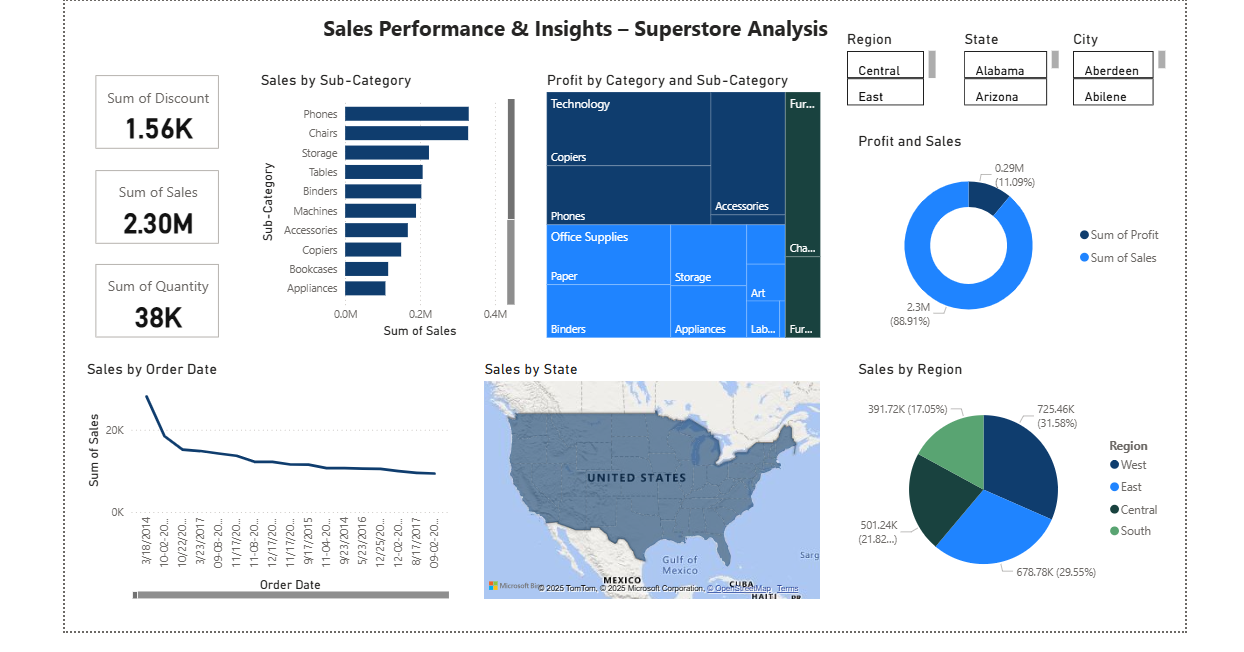

What the dashboard file says about the page in this screenshot:
{"tool":"powerbi","page":{"name":"Page 1","canvas":[1280,720],"ordinal":0},"visuals":[{"type":"clusteredBarChart","title":"Sales by Sub-Category","fields":{"Category":["Sample - Superstore.Sub-Category"],"Y":["Sum(Sample - Superstore.Sales)"]},"box":[218.6,80,300,310],"z":0},{"type":"lineChart","title":"Sales by Order Date","fields":{"Y":["Sum(Sample - Superstore.Sales)"],"Category":["Sample - Superstore.Order Date"]},"box":[20,410,424,278],"z":1000},{"type":"pieChart","title":"Sales by Region","fields":{"Y":["Sum(Sample - Superstore.Sales)"],"Category":["Sample - Superstore.Region"]},"box":[902,410,362,278],"z":2000},{"type":"treemap","title":"Profit by Category and Sub-Category","fields":{"Values":["Sum(Sample - Superstore.Profit)"],"Group":["Sample - Superstore.Category"],"Details":["Sample - Superstore.Sub-Category"]},"box":[545.7,80,322.9,310],"z":3000},{"type":"donutChart","title":"Profit and Sales","fields":{"Y":["Sum(Sample - Superstore.Profit)","Sum(Sample - Superstore.Sales)"]},"box":[901.4,150,362.9,240],"z":4000},{"type":"filledMap","title":"Sales by State","fields":{"Category":["Sample - Superstore.State"]},"box":[474,410,394,278],"z":5000},{"type":"cardVisual","fields":{"Data":["Sum(Sample - Superstore.Quantity)"]},"box":[30,295.7,151.4,94.3],"z":6000},{"type":"cardVisual","fields":{"Data":["Sum(Sample - Superstore.Sales)"]},"box":[30,188.6,151.4,94.3],"z":7000},{"type":"cardVisual","fields":{"Data":["Sum(Sample - Superstore.Discount)"]},"box":[30,80,151.4,94.3],"z":8000},{"type":"textbox","box":[290,10,611.4,50],"z":9000},{"type":"advancedSlicerVisual","fields":{"Values":["Sample - Superstore.State"]},"box":[1022.9,32.9,118.6,92.9],"z":9001},{"type":"advancedSlicerVisual","fields":{"Values":["Sample - Superstore.Region"]},"box":[888.6,32.9,111.4,92.9],"z":9002},{"type":"advancedSlicerVisual","fields":{"Values":["Sample - Superstore.City"]},"box":[1147.1,32.9,115.7,92.9],"z":9003}]}

Visuals, with their boxes on the page's 1280x720 design canvas (x1, y1, x2, y2). These are canvas units, not pixel positions in the 1244x652 screenshot, which may show the page scaled, cropped or inside an application window:
"Sales by Sub-Category" clusteredBarChart: crop(219, 80, 519, 390)
"Sales by Order Date" lineChart: crop(20, 410, 444, 688)
"Sales by Region" pieChart: crop(902, 410, 1264, 688)
"Profit by Category and Sub-Category" treemap: crop(546, 80, 869, 390)
"Profit and Sales" donutChart: crop(901, 150, 1264, 390)
"Sales by State" filledMap: crop(474, 410, 868, 688)
cardVisual - Sum(Sample - Superstore.Quantity): crop(30, 296, 181, 390)
cardVisual - Sum(Sample - Superstore.Sales): crop(30, 189, 181, 283)
cardVisual - Sum(Sample - Superstore.Discount): crop(30, 80, 181, 174)
textbox: crop(290, 10, 901, 60)
advancedSlicerVisual - Sample - Superstore.State: crop(1023, 33, 1142, 126)
advancedSlicerVisual - Sample - Superstore.Region: crop(889, 33, 1000, 126)
advancedSlicerVisual - Sample - Superstore.City: crop(1147, 33, 1263, 126)
